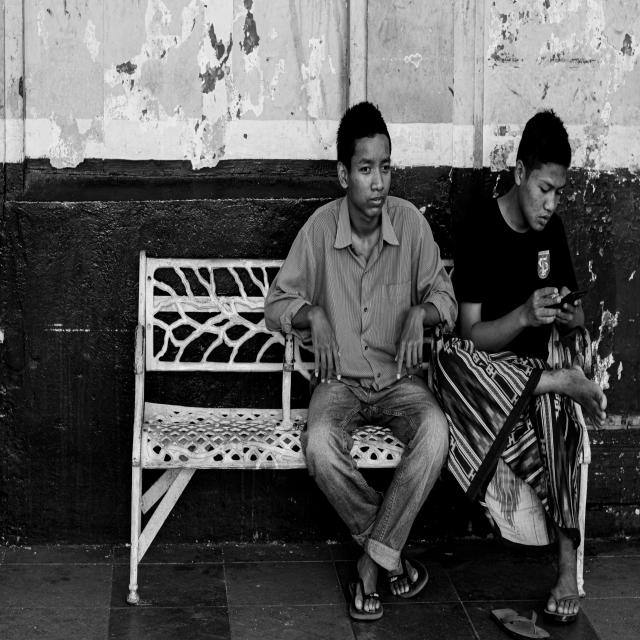nonfall: (283, 103, 445, 614), (466, 108, 617, 617)
